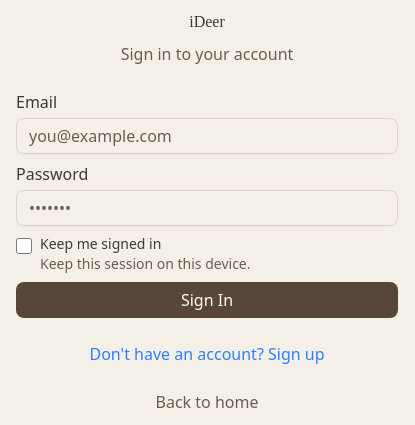
LoginPage › toggles to register mode
Click the button "Don't have an account? Sign up".
click(207, 354)  # box [90,342,324,366]
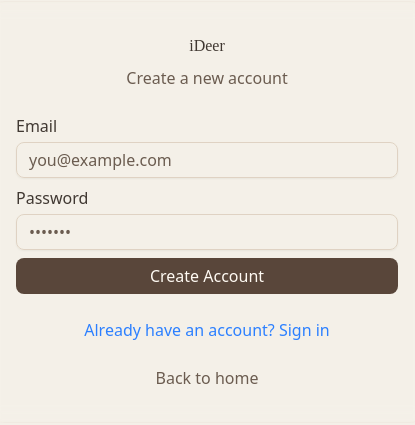
Check: the text "Create a new account" is shown, box [126,67,288,89]
Check: the button "Create Account" is shown, box [16,258,398,294]
Check: the button "Already have an account? Sign in" is shown, box [84,318,330,342]
